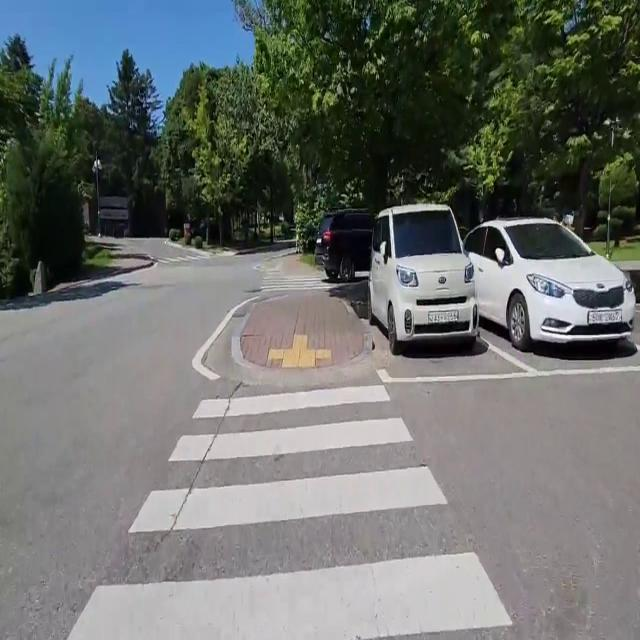car: (461, 199, 637, 369), (367, 195, 485, 369), (312, 198, 373, 282)
streetlamp: (87, 150, 106, 244)
